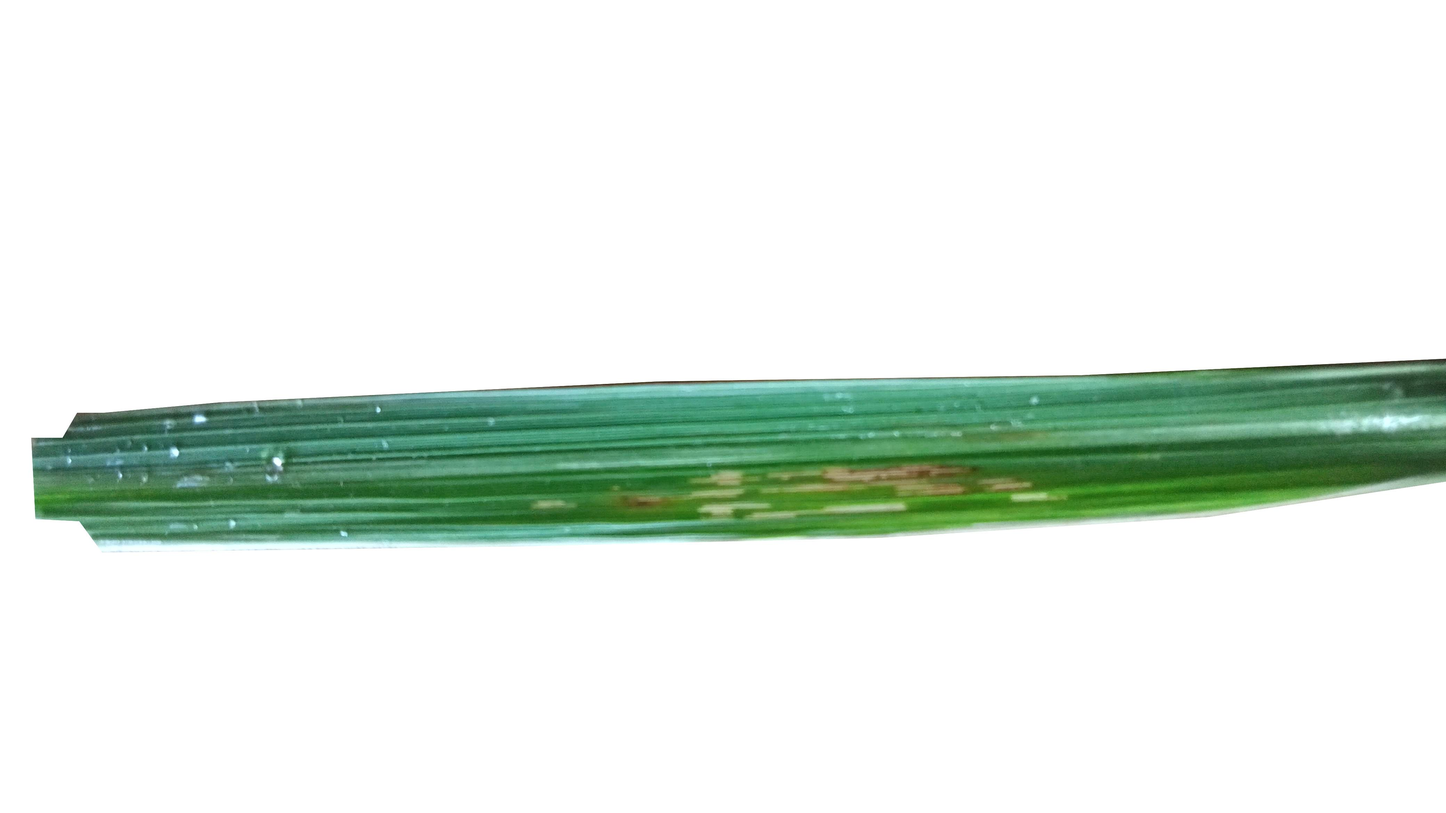Blight: (659, 440, 1036, 535)
